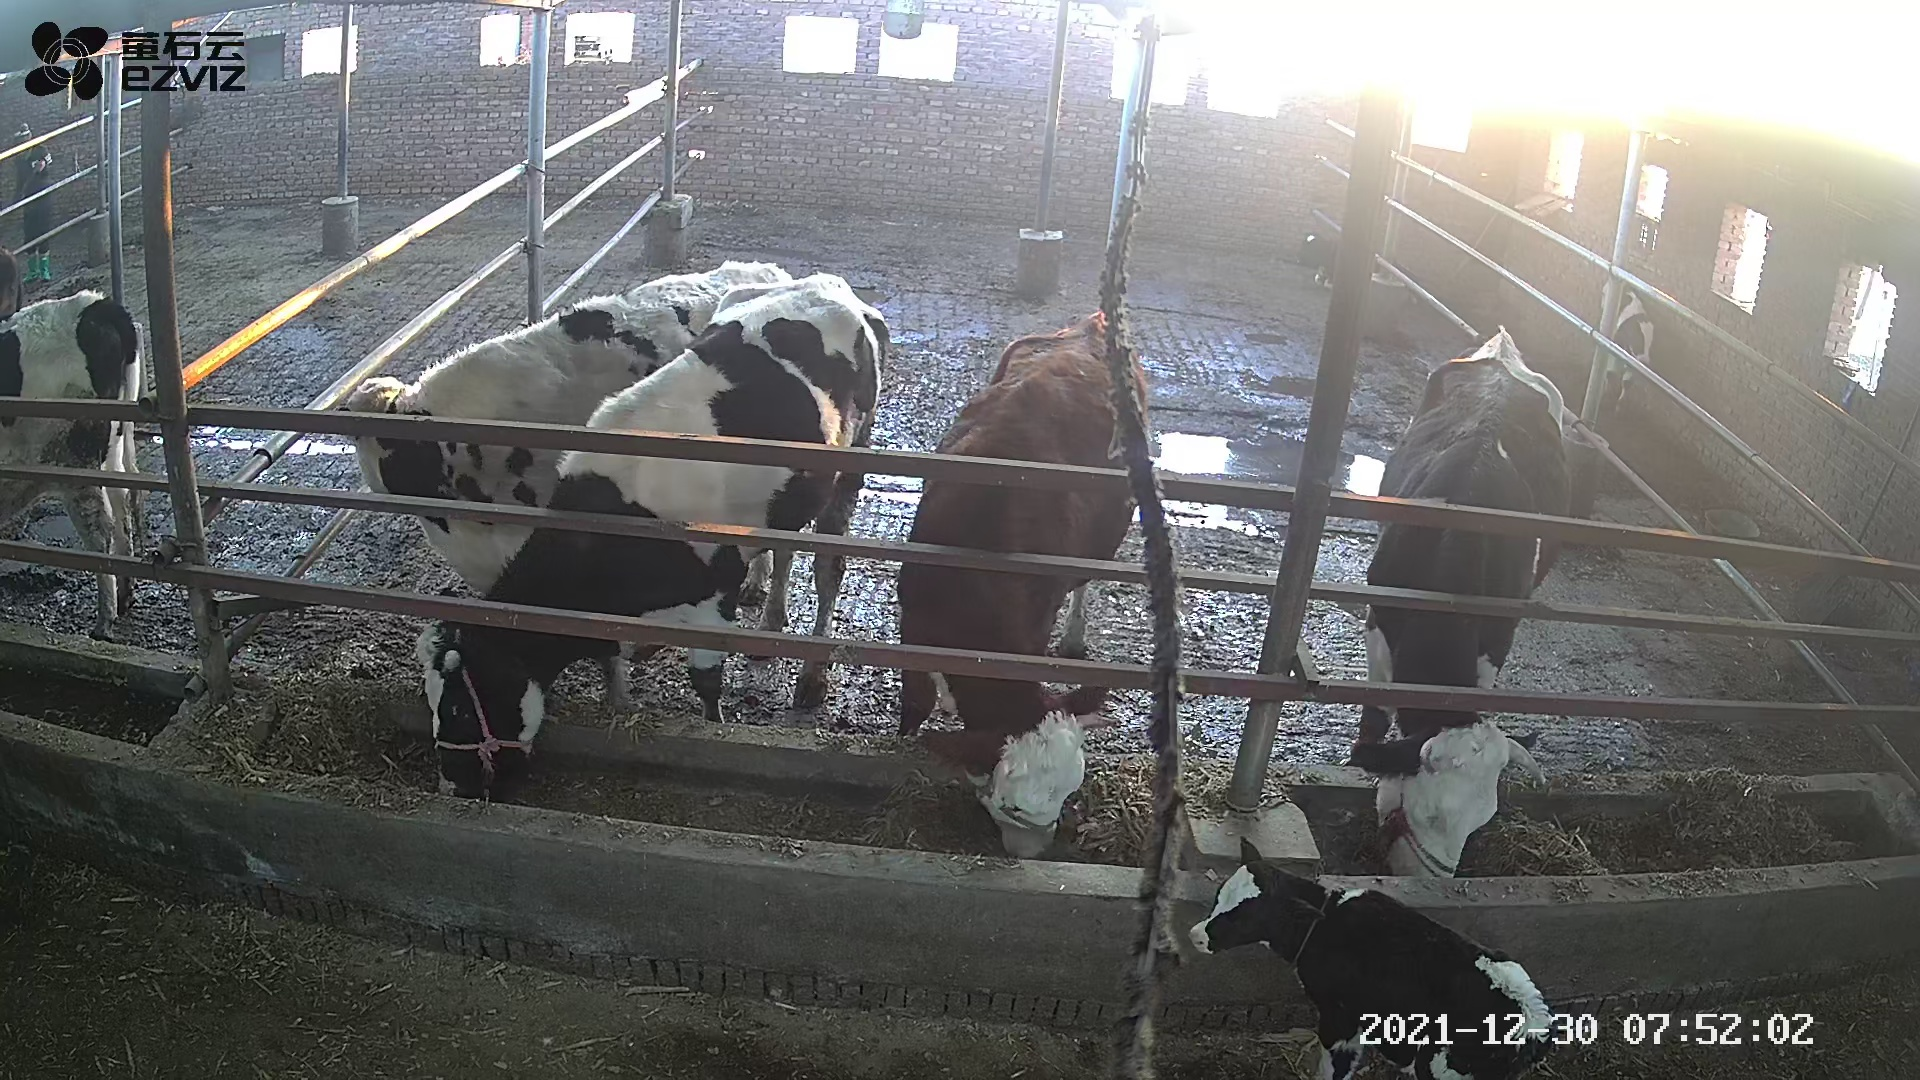cow: (411, 272, 891, 802), (343, 258, 798, 621), (895, 301, 1151, 858), (1364, 320, 1575, 884)
